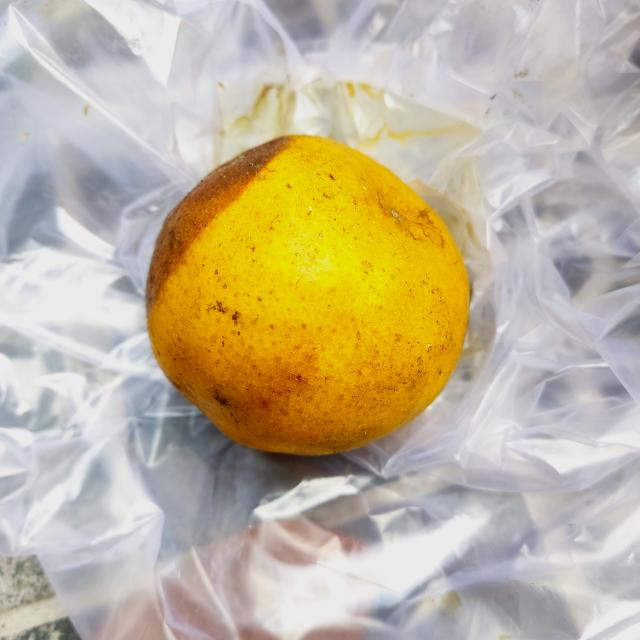orange: (146, 132, 477, 458)
